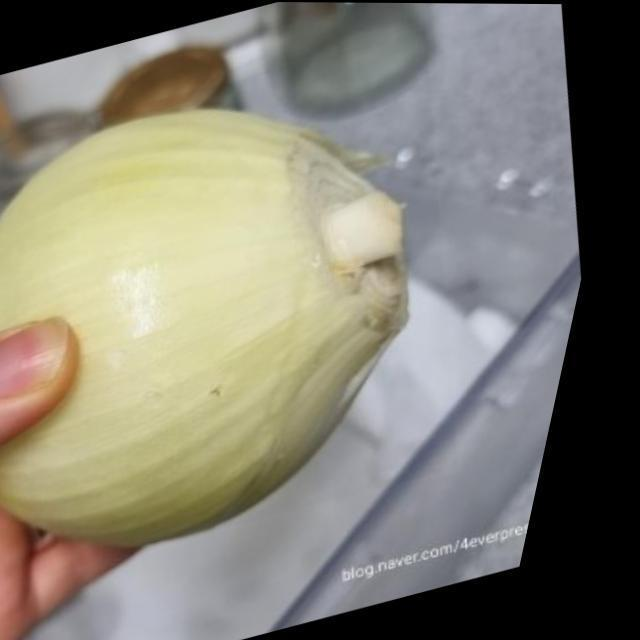Onion: (0, 26, 552, 600)
